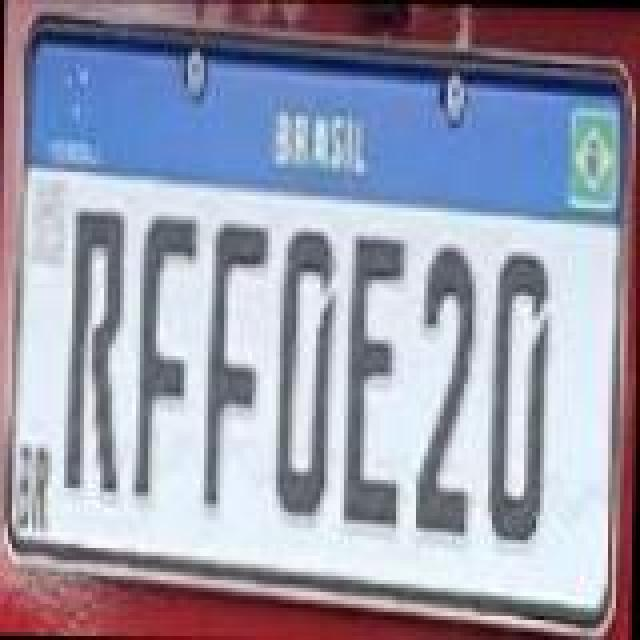2: (412, 240, 476, 536)
D: (488, 252, 552, 548), (276, 228, 336, 520)
E: (344, 230, 404, 526)
F: (134, 212, 198, 504), (208, 218, 268, 510)
R: (64, 202, 124, 494)
